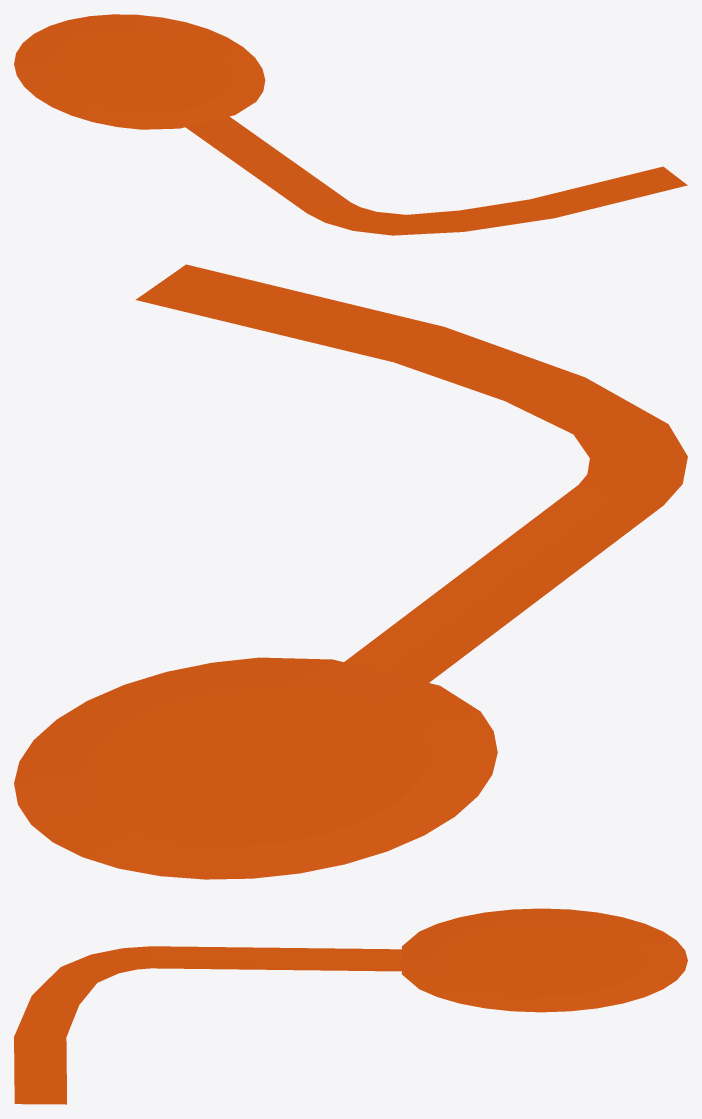
The model's file is KILPIKONNANLATTIA.fbx.
3 views of the same model, one above another, from view 1: azimuth 30°, elevation 25°; view 2: azimuth 150°, elevation 25°; view 3: azimuth 270°, elevation 25° (orthographic). The views are drawn at different scales.
Visible parts, largest first — view 1: Sphere.002; view 2: Sphere.002; view 3: Sphere.002.
Part boxes in pixels (x1,y1,x2,y2): Sphere.002: (14,14,687,235); Sphere.002: (14,264,687,879); Sphere.002: (14,908,687,1104).
Size of the model in its own units: 40.21 by 0.2925 by 57.54.
